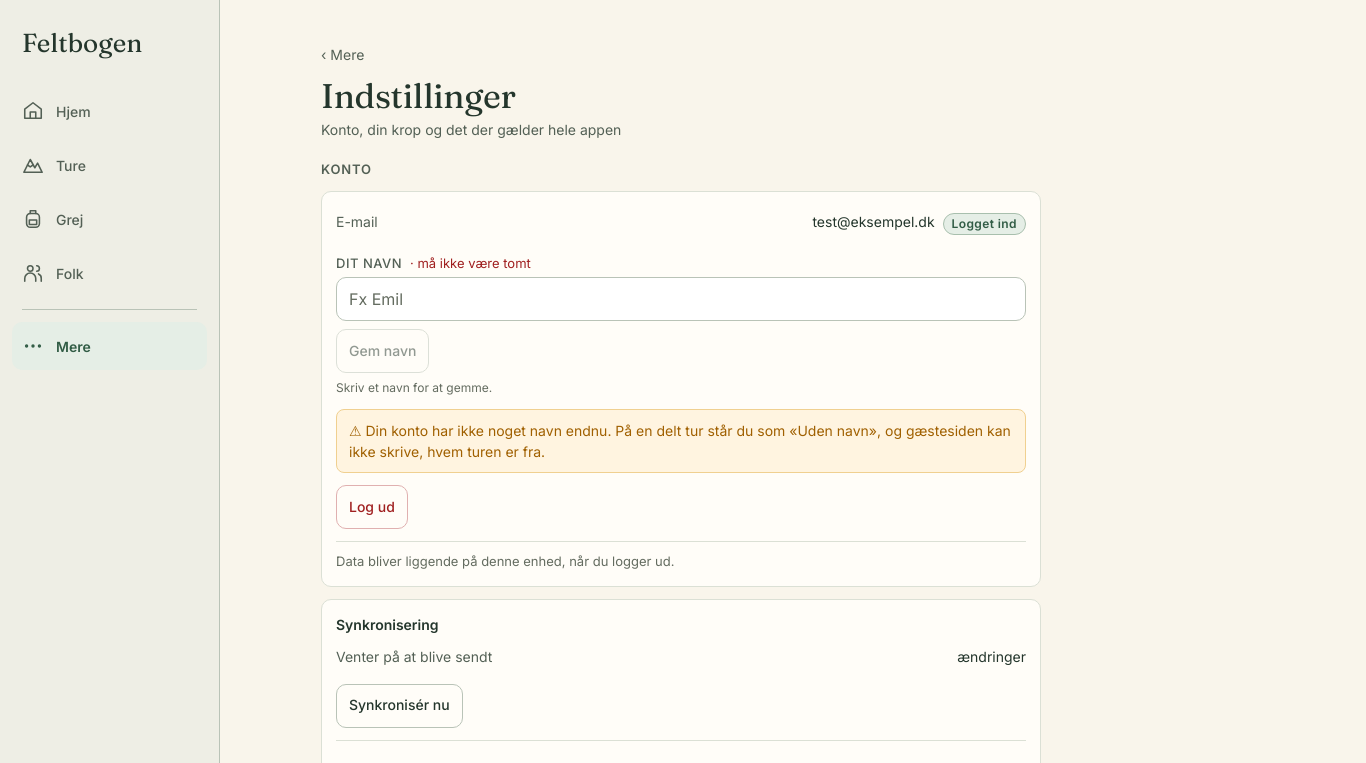
Test: en konto uden navn › holder op med at sige det, når navnet er gemt
Step 1. Type "Emil" into the field labelled "Dit navn· må ikke være tomt" → (681, 299), box [336,277,1026,321]
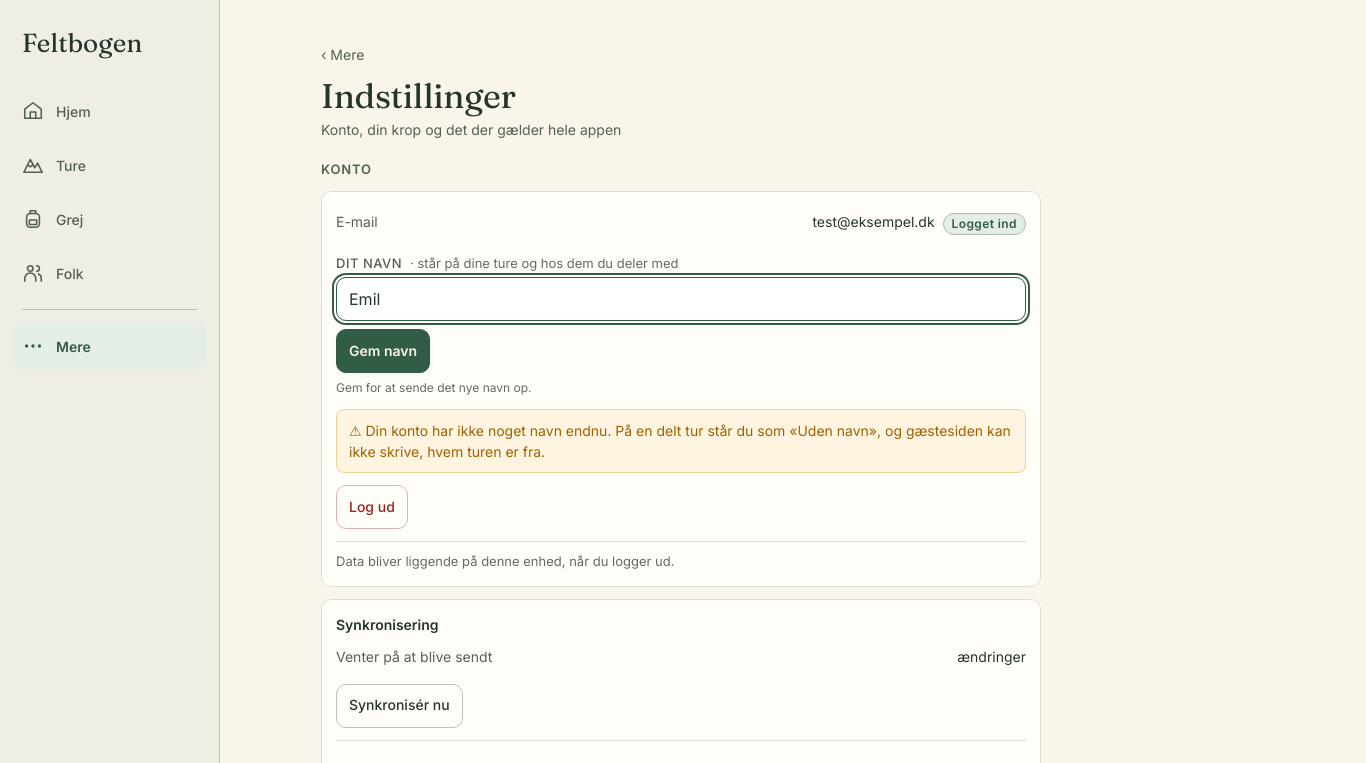
Step 2. Click the button "Gem navn" → (383, 351), box [336,329,430,373]
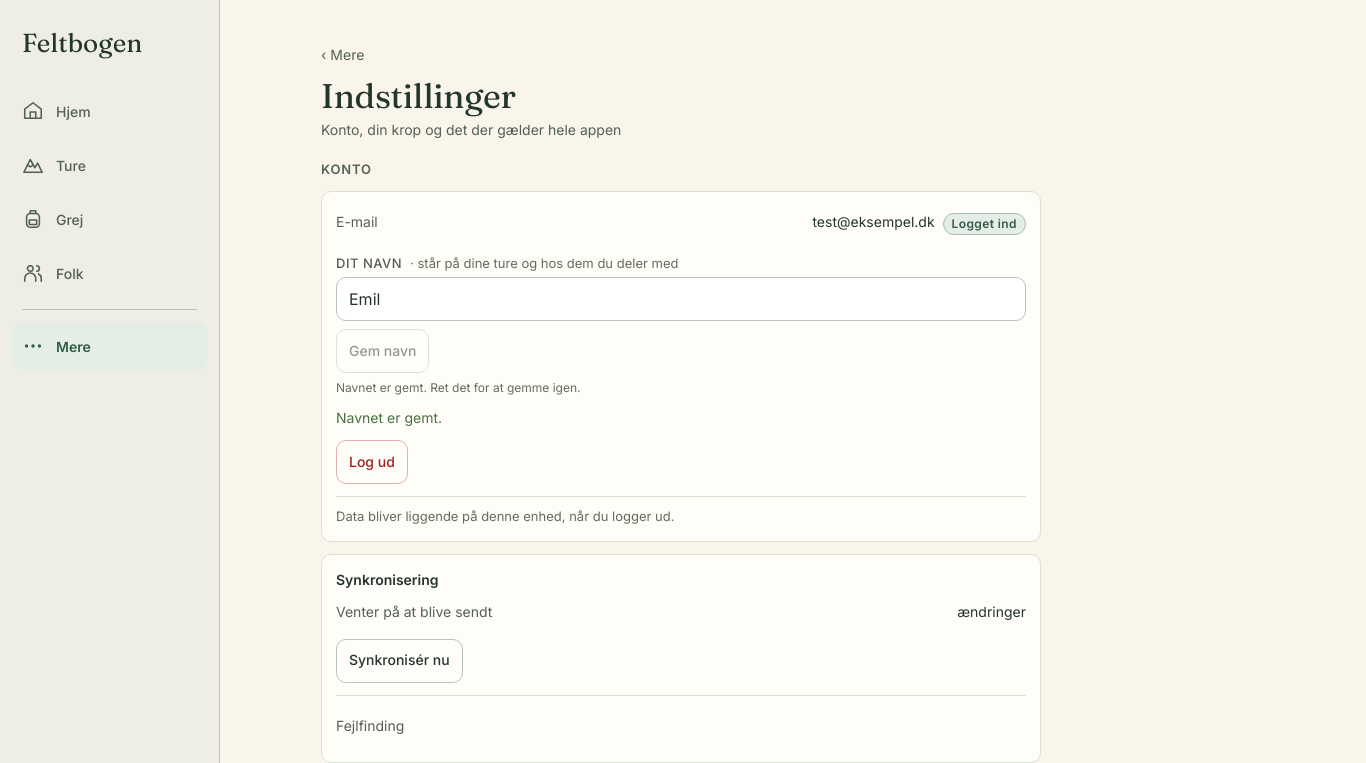
Expected: the text "Navnet er gemt." is shown, [336,409,442,426]
Expected: the text "står du som «Uden navn»" is gone
